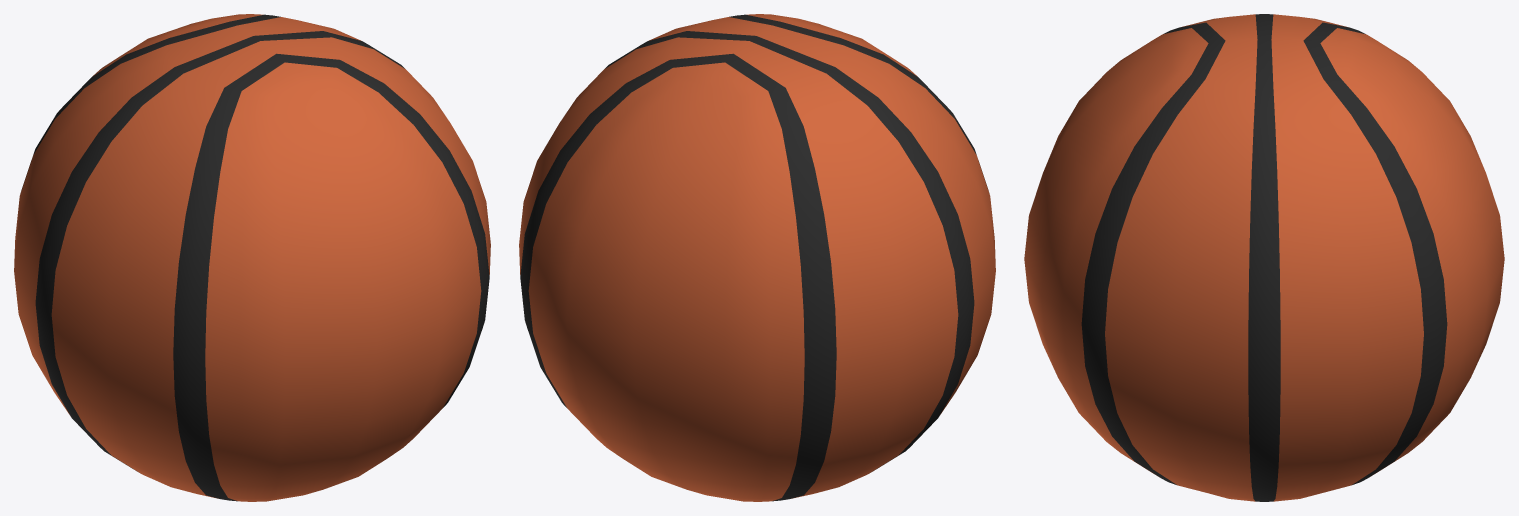
The model's file is basketball.fbx.
3 views of the same model, side by side, from view 1: azimuth 30°, elevation 25°; view 2: azimuth 150°, elevation 25°; view 3: azimuth 270°, elevation 25° (orthographic).
Parts seen in each view (by area): view 1: BasketballBall; view 2: BasketballBall; view 3: BasketballBall.
Part boxes in pixels (bbox=[...]): BasketballBall: bbox=[14, 14, 490, 501]; BasketballBall: bbox=[519, 14, 995, 501]; BasketballBall: bbox=[1024, 14, 1504, 501].
Bounding box in the file's own units: 49.48 × 49.37 × 48.6.
